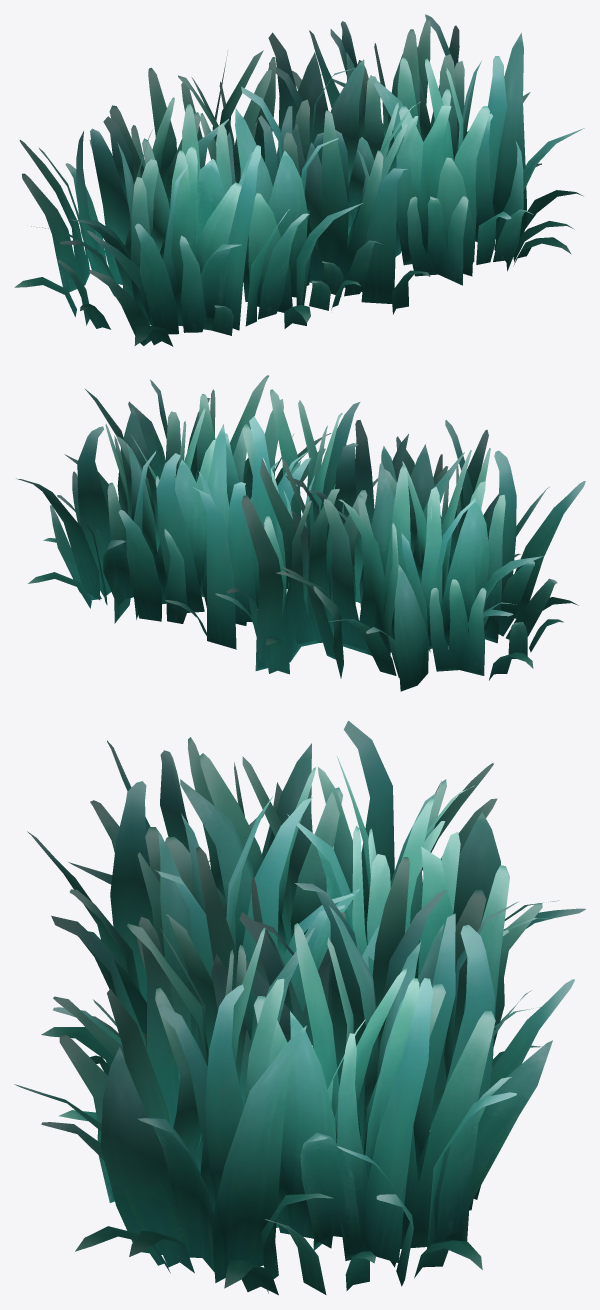
Rendered from pref_sm_beach_winter_techgrass02_lv3.fbx.
3 renders of one model, top to bottom at view 1: azimuth 30°, elevation 25°; view 2: azimuth 150°, elevation 25°; view 3: azimuth 270°, elevation 25°, orthographic. The views are drawn at different scales.
Parts seen in each view (by area): view 1: pref_sm_beach_winter_techgrass02_lv3; view 2: pref_sm_beach_winter_techgrass02_lv3; view 3: pref_sm_beach_winter_techgrass02_lv3.
Boxes of the visible parts, bbox=[...] form: pref_sm_beach_winter_techgrass02_lv3: bbox=[14, 14, 584, 346]; pref_sm_beach_winter_techgrass02_lv3: bbox=[16, 375, 585, 691]; pref_sm_beach_winter_techgrass02_lv3: bbox=[14, 721, 585, 1295].
Size of the model in its own units: 4.82 by 1.81 by 2.99.
